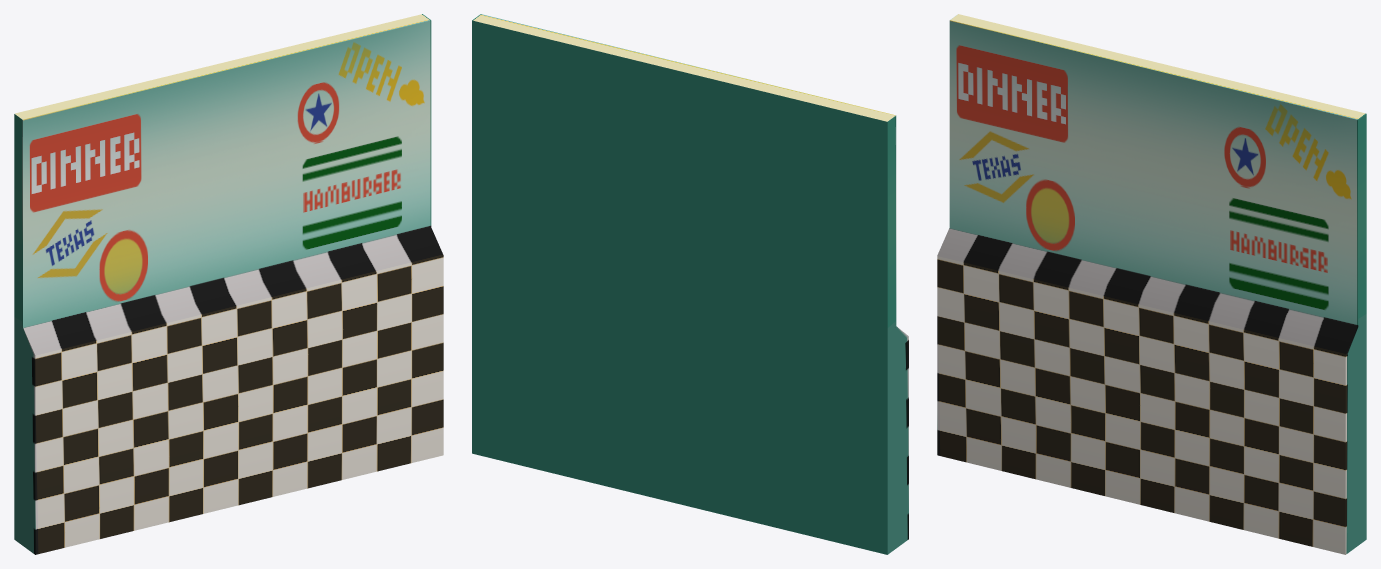
File: Background_Stage2_Wall_02.fbx
The picture shows the model from 3 angles, left to right: view 1: azimuth 30°, elevation 25°; view 2: azimuth 150°, elevation 25°; view 3: azimuth 330°, elevation 25°; orthographic projection.
Parts seen in each view (by area): view 1: Background_Stage2_Wall_02:Background_Stage2_Wall_02; view 2: Background_Stage2_Wall_02:Background_Stage2_Wall_02; view 3: Background_Stage2_Wall_02:Background_Stage2_Wall_02.
Part boxes in pixels (x1,y1,x2,y2): Background_Stage2_Wall_02:Background_Stage2_Wall_02: [14, 14, 443, 554]; Background_Stage2_Wall_02:Background_Stage2_Wall_02: [472, 14, 908, 554]; Background_Stage2_Wall_02:Background_Stage2_Wall_02: [937, 14, 1366, 554].
Size of the model in its own units: 1991 by 1984 by 178.
